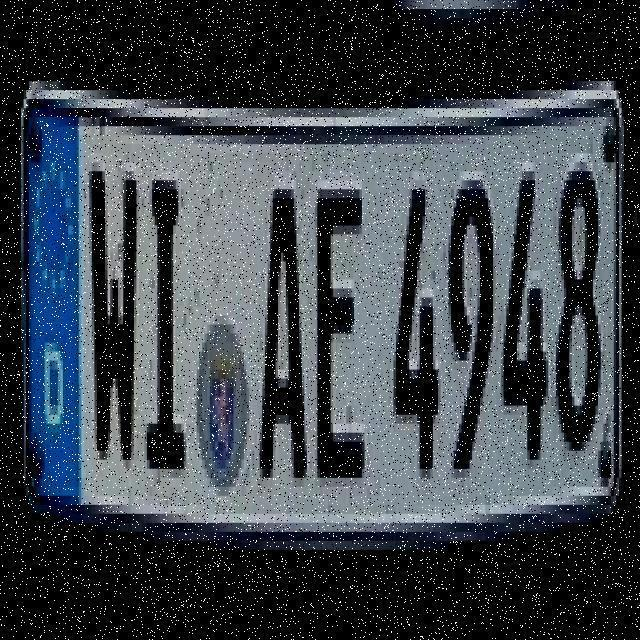License Plate: (19, 72, 623, 576)
